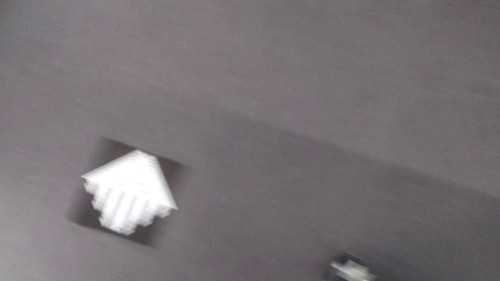misgoods: (73, 134, 186, 240)
